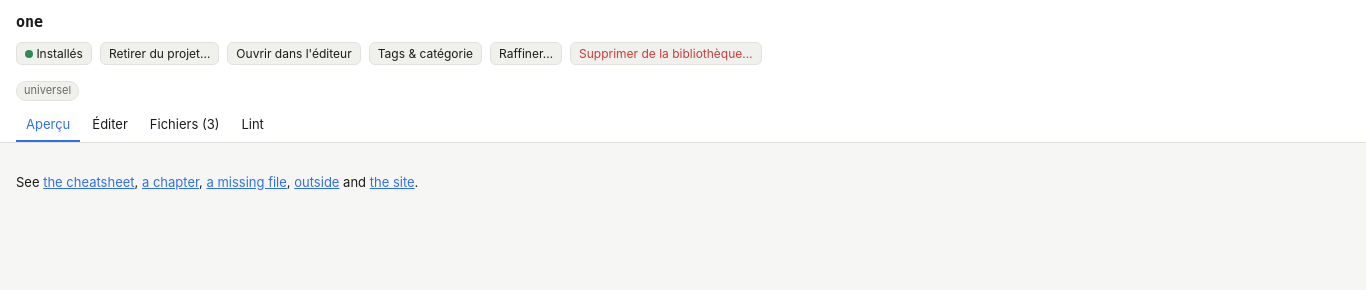
Test case: links in the preview › opens a linked file of the skill in place, rendered, with a way back
Click the link "the cheatsheet": [89, 182] box [43,174,135,190]
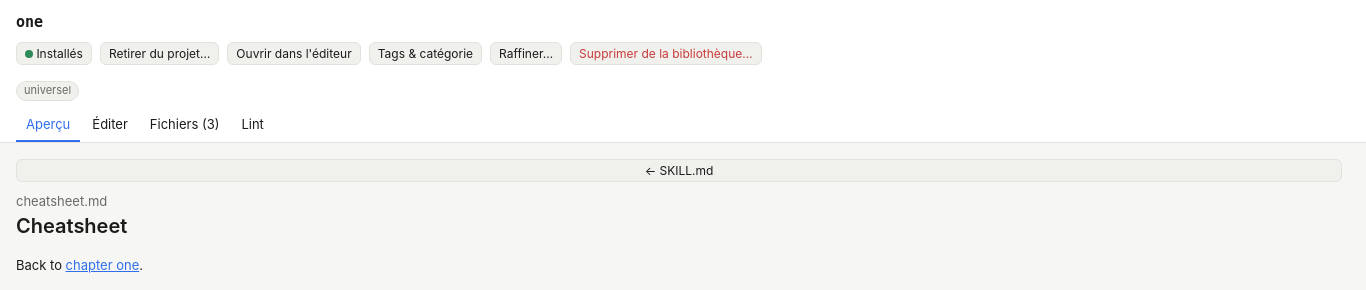
Check: the heading "Cheatsheet" is shown, box [16,214,127,238]
// Relative to the file being read, in both directions.
Click the link "chapter one": [102, 265] box [66,257,139,273]
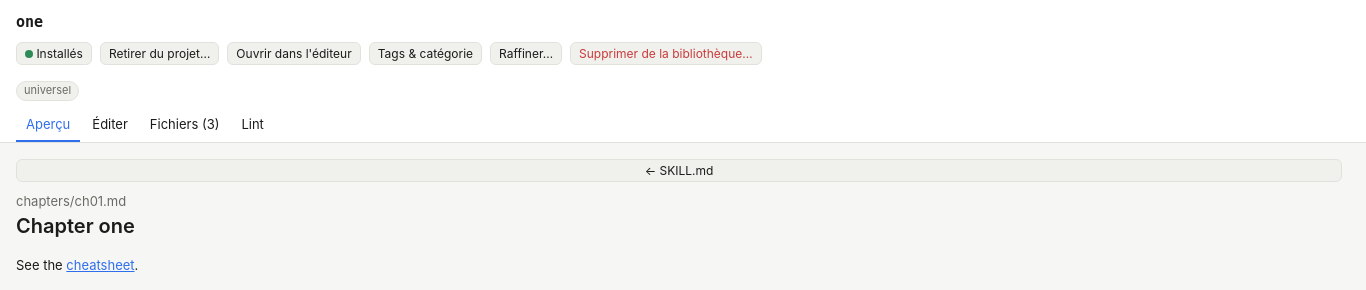
Check: the heading "Chapter one" is shown, box [16,214,135,238]
Click the link "cheatsheet": [100, 265] box [66,257,134,273]
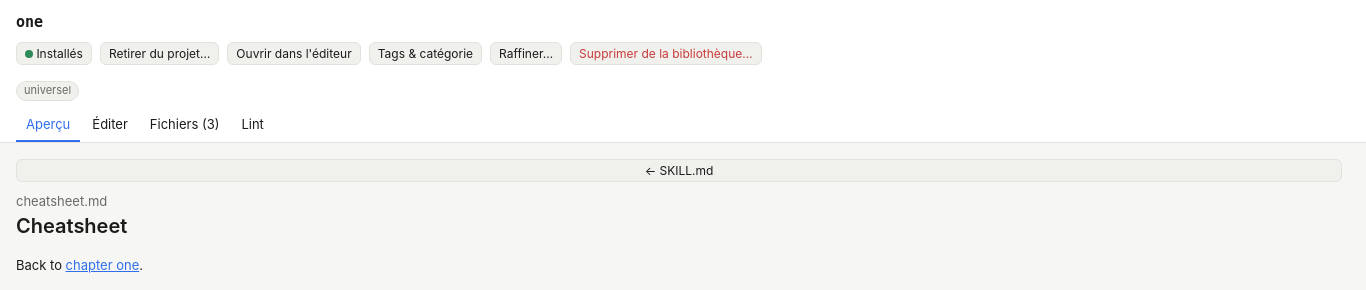
Check: the heading "Cheatsheet" is shown, box [16,214,127,238]
Click the button "← SKILL.md": [679, 171] box [16,159,1342,182]
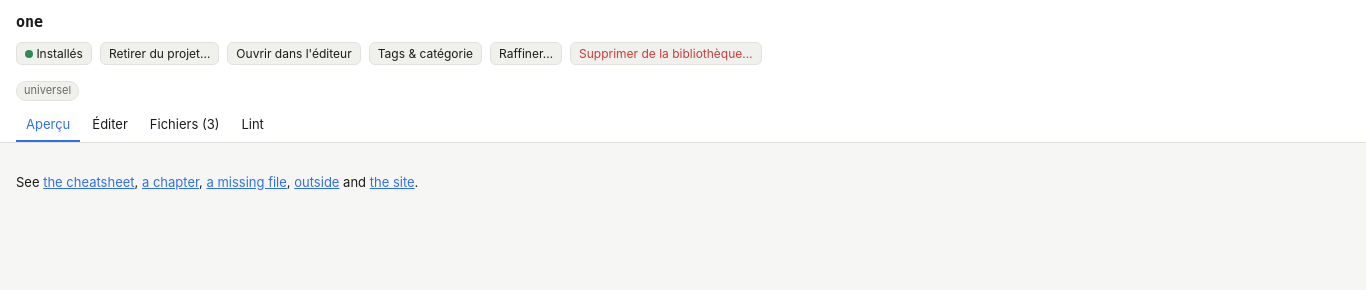
Check: the link "the cheatsheet" is shown, box [43,174,135,190]
